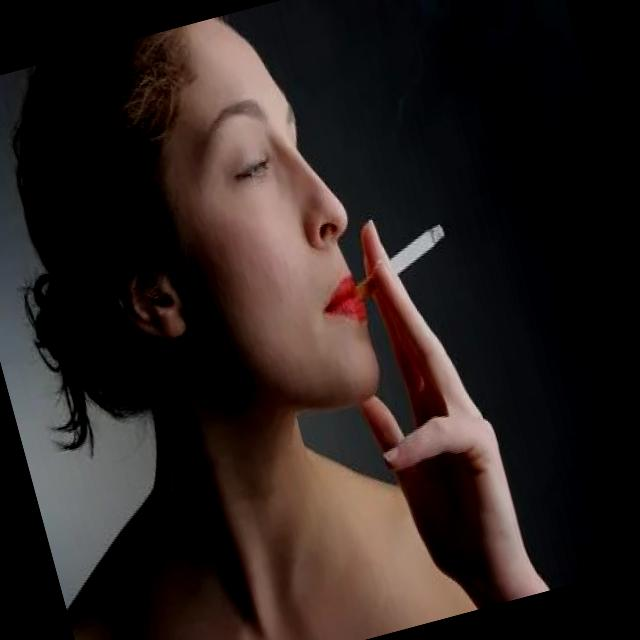cigarette: (339, 218, 462, 310)
